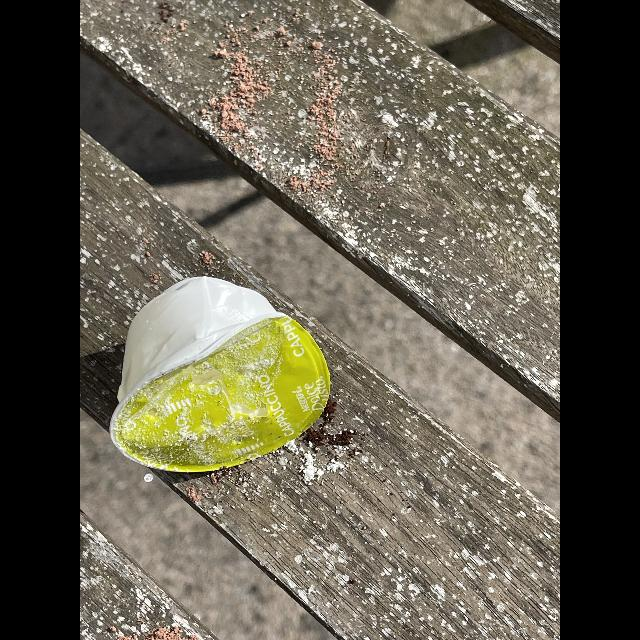damaged_capsule: (99, 262, 347, 484)
